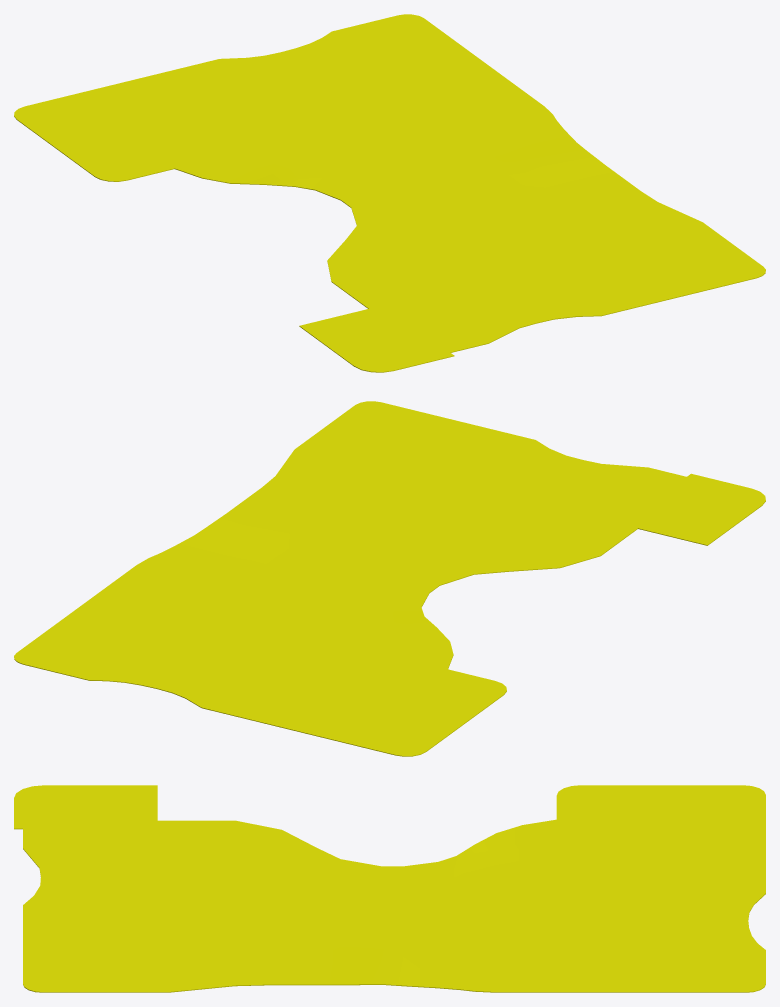
The model's file is sm_hana_building_13f_ceiling.glb.
The picture shows the model from 3 angles, top to bottom: view 1: azimuth 30°, elevation 25°; view 2: azimuth 150°, elevation 25°; view 3: azimuth 270°, elevation 25°; orthographic projection. The views are drawn at different scales.
Visible parts, largest first — view 1: sm_hana_building_13f_ceiling; view 2: sm_hana_building_13f_ceiling; view 3: sm_hana_building_13f_ceiling.
Part boxes in pixels (x1,y1,x2,y2): sm_hana_building_13f_ceiling: [14, 14, 765, 372]; sm_hana_building_13f_ceiling: [14, 401, 765, 756]; sm_hana_building_13f_ceiling: [14, 785, 765, 992].
Bounding box in the file's own units: 64.29 × 0.1989 × 98.77.
1 material, 1 textured.
